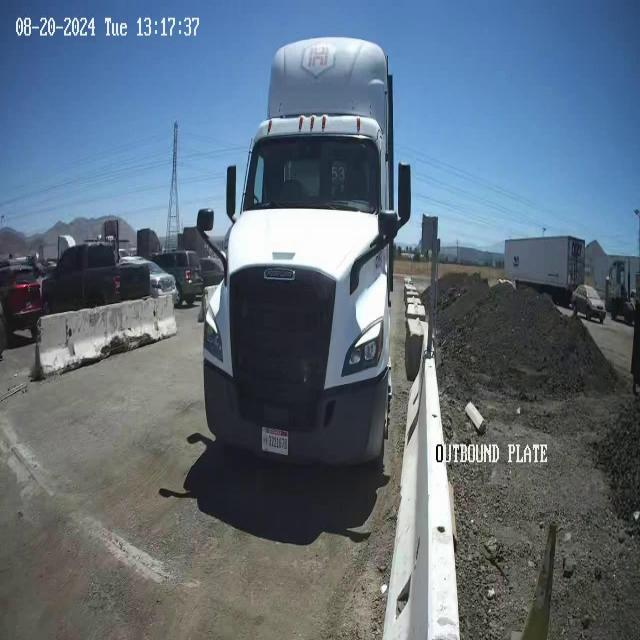TRUCK_OUT: (196, 35, 410, 473)
